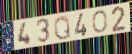2: (110, 5, 127, 34)
3: (36, 17, 51, 45)
4: (16, 21, 33, 46), (74, 11, 89, 38)
O: (91, 9, 109, 34)
Q: (53, 14, 72, 41)
